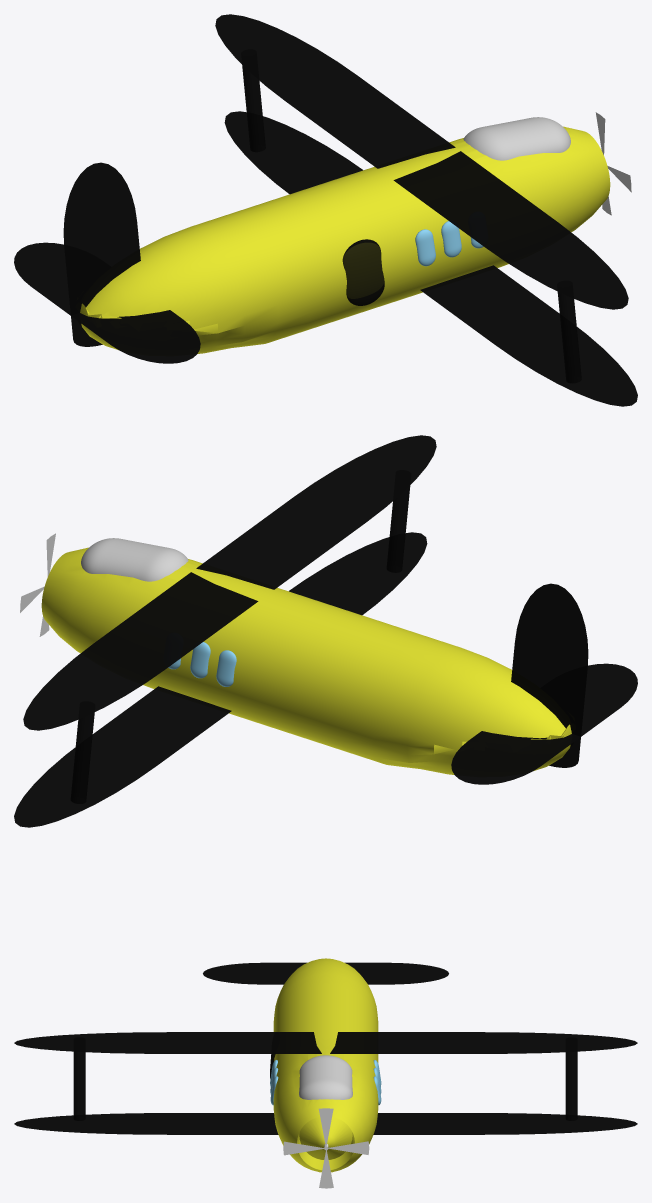
File: airplane2.fbx
3 views of the same model, one above another, from view 1: azimuth 30°, elevation 25°; view 2: azimuth 150°, elevation 25°; view 3: azimuth 270°, elevation 25° (orthographic). The views are drawn at different scales.
Visible parts, largest first — view 1: Capsule_3, Capsule_1, Capsule_2_2, Capsule_4, Capsule_3_2, Capsule_10, Capsule_2, Cylinder, Cylinder_1, Capsule, Capsule_5; view 2: Capsule_3, Capsule_1, Capsule_2_2, Capsule_4, Capsule_3_2, Capsule_10, Cylinder_1, Cylinder, Capsule_7, Capsule_8; view 3: Capsule_3, Capsule_1, Capsule_2_2, Capsule_3_2, Capsule_10, Cylinder_1, Cylinder.
Boxes of the visible parts, x1=… form: Capsule_3: x1=80, y1=126, x2=610, y2=353; Capsule_1: x1=215, y1=14, x2=628, y2=309; Capsule_2_2: x1=224, y1=111, x2=637, y2=406; Capsule_4: x1=63, y1=162, x2=140, y2=346; Capsule_3_2: x1=14, y1=242, x2=200, y2=363; Capsule_10: x1=463, y1=117, x2=570, y2=160; Capsule_2: x1=342, y1=239, x2=384, y2=305; Cylinder: x1=557, y1=292, x2=581, y2=383; Cylinder_1: x1=242, y1=65, x2=265, y2=152; Capsule: x1=415, y1=229, x2=435, y2=266; Capsule_5: x1=441, y1=221, x2=461, y2=257; Capsule_3: x1=41, y1=547, x2=571, y2=774; Capsule_1: x1=23, y1=435, x2=436, y2=730; Capsule_2_2: x1=14, y1=532, x2=427, y2=827; Capsule_4: x1=511, y1=583, x2=588, y2=767; Capsule_3_2: x1=451, y1=663, x2=637, y2=784; Capsule_10: x1=81, y1=538, x2=188, y2=581; Cylinder_1: x1=70, y1=712, x2=94, y2=803; Cylinder: x1=386, y1=485, x2=410, y2=572; Capsule_7: x1=216, y1=650, x2=236, y2=686; Capsule_8: x1=190, y1=642, x2=210, y2=678; Capsule_3: x1=273, y1=958, x2=378, y2=1172; Capsule_1: x1=14, y1=1032, x2=637, y2=1053; Capsule_2_2: x1=14, y1=1113, x2=637, y2=1134; Capsule_3_2: x1=203, y1=962, x2=448, y2=984; Capsule_10: x1=299, y1=1055, x2=352, y2=1099; Cylinder_1: x1=565, y1=1051, x2=577, y2=1120; Cylinder: x1=73, y1=1051, x2=85, y2=1120.
Bounding box in the file's own units: 666 × 250 × 850.
